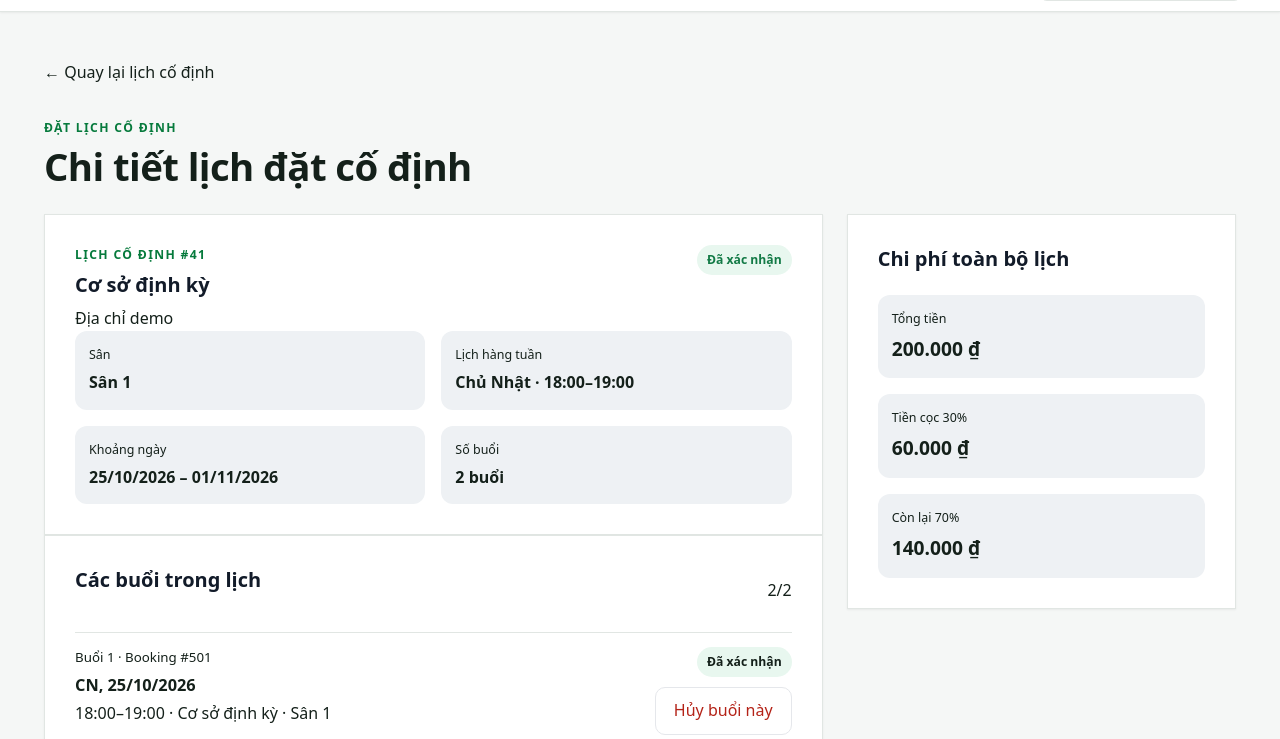
Scenario: keeps cancellation fail-closed when an unknown result cannot be verified
Click the button "Hủy buổi này". click: (723, 711)
box: top-left (655, 687), bottom-right (792, 735)
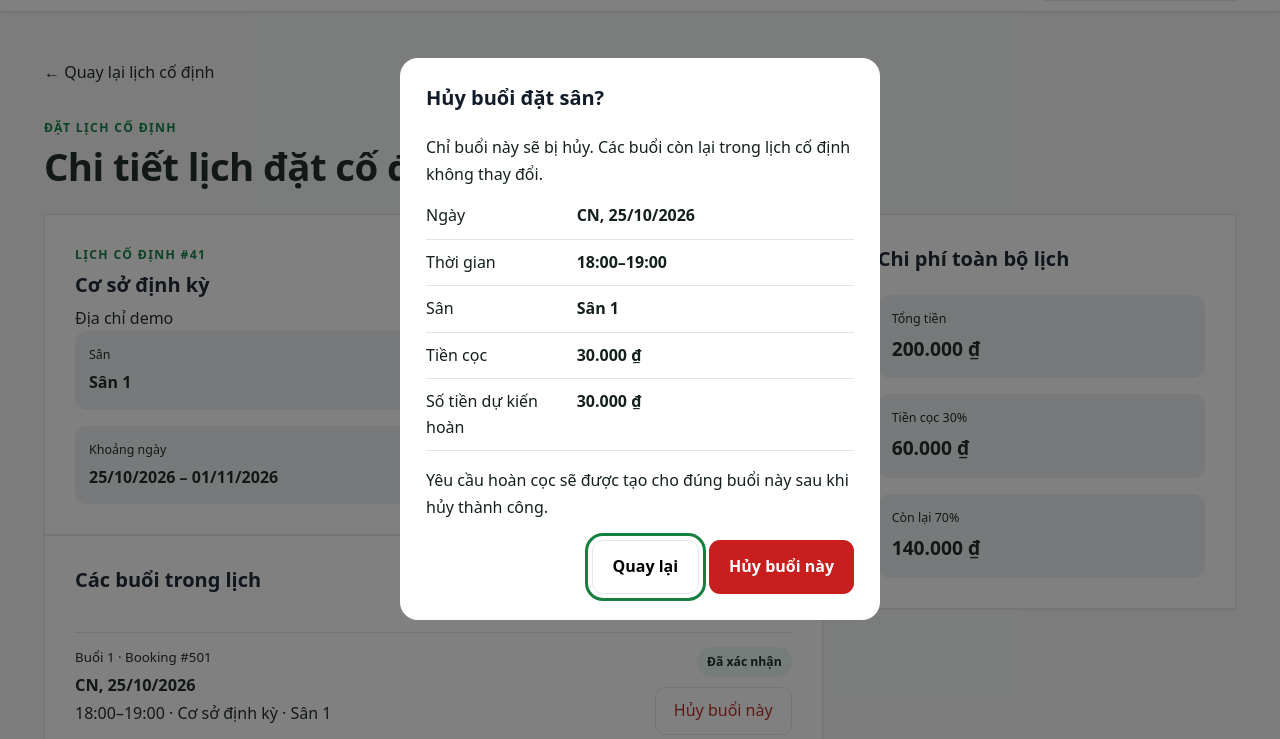
Click the button with class "destructive". click: (782, 567)
box: top-left (709, 540), bottom-right (854, 594)
(page scrolled)
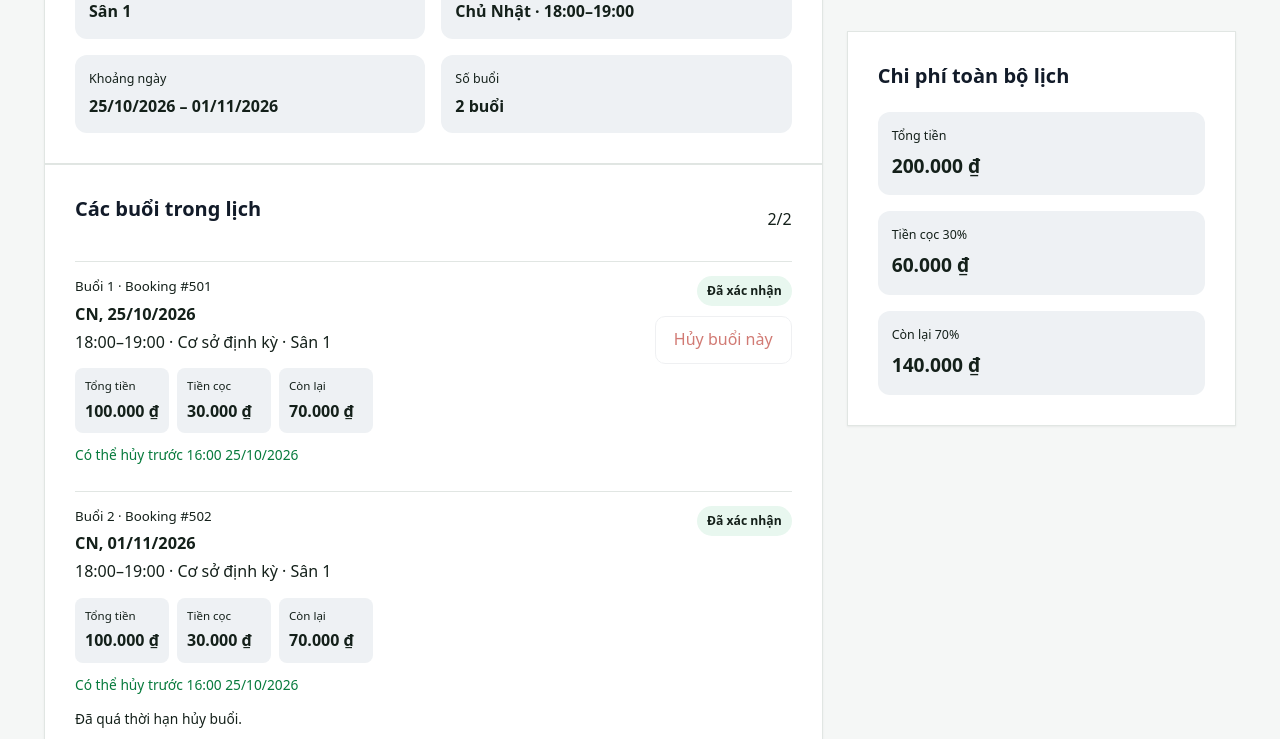
Now the dialog is gone
Now the button "Hủy buổi này" is disabled, box top-left (655, 316), bottom-right (792, 364)
